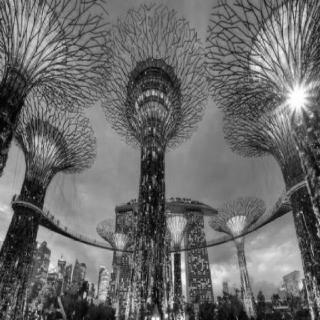other: (250, 31, 308, 71)
